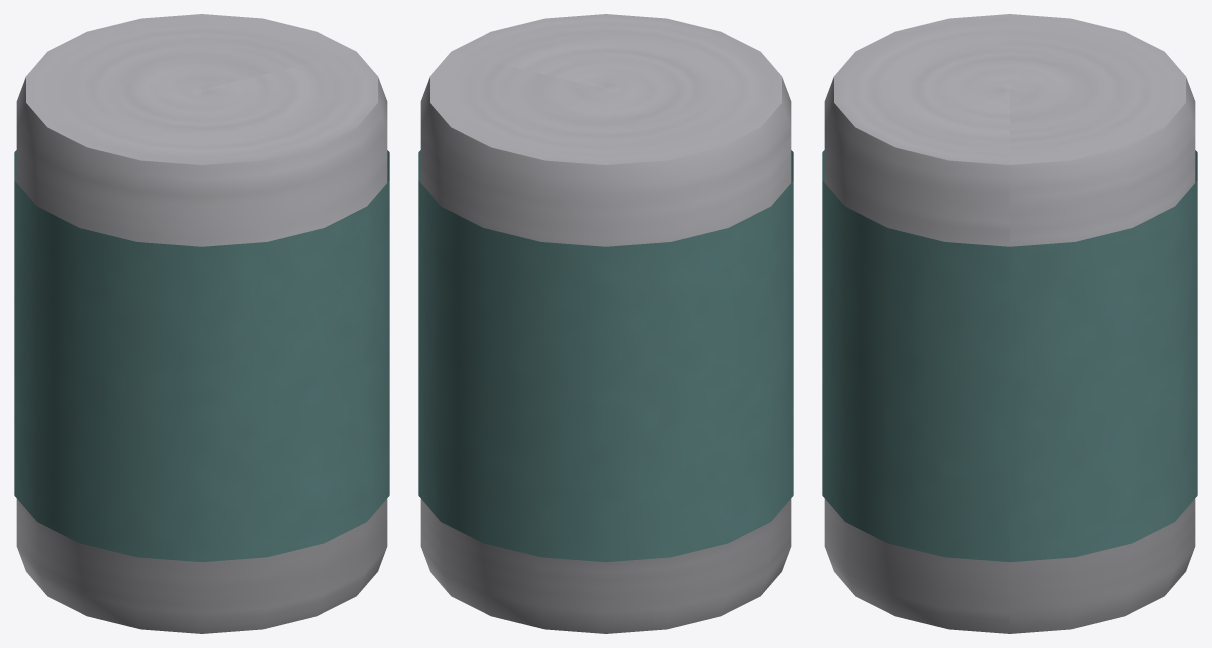
The model's file is SM_Can_Tin_Teal.fbx.
3 views of the same model, side by side, from view 1: azimuth 30°, elevation 25°; view 2: azimuth 150°, elevation 25°; view 3: azimuth 270°, elevation 25° (orthographic).
Visible parts, largest first — view 1: SM_Can_Tin_Teal; view 2: SM_Can_Tin_Teal; view 3: SM_Can_Tin_Teal.
Boxes of the visible parts, x1=… form: SM_Can_Tin_Teal: x1=14, y1=14, x2=389, y2=633; SM_Can_Tin_Teal: x1=418, y1=14, x2=793, y2=633; SM_Can_Tin_Teal: x1=822, y1=14, x2=1197, y2=633.
Bounding box in the file's own units: 0.081 × 0.11 × 0.0798.
Materials: 2 (2 with a texture image).
